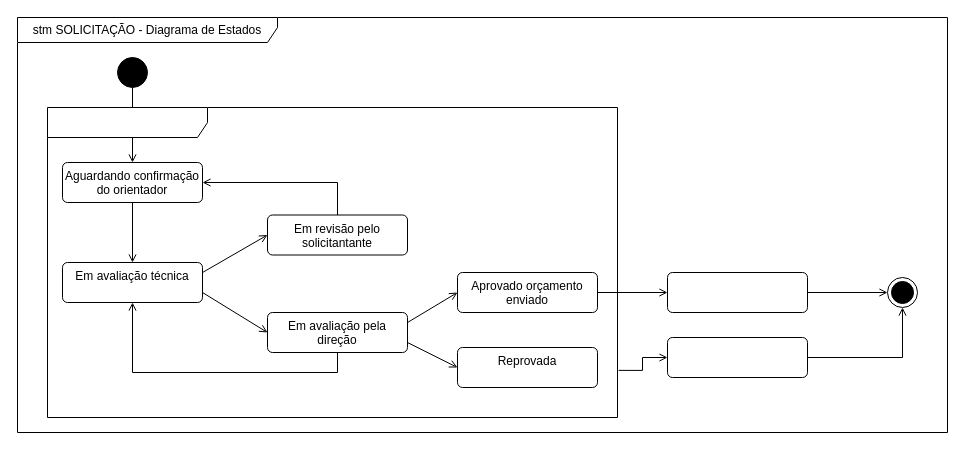
Some shapes in this 965 by 450 pixel diagram are drawn without their labels. The centre of each missing label's shape, as x and y in pixels:
"Cancelada" goes at [737,357].
"Concluída" goes at [737,292].
"Em andamento" goes at [332,262].
